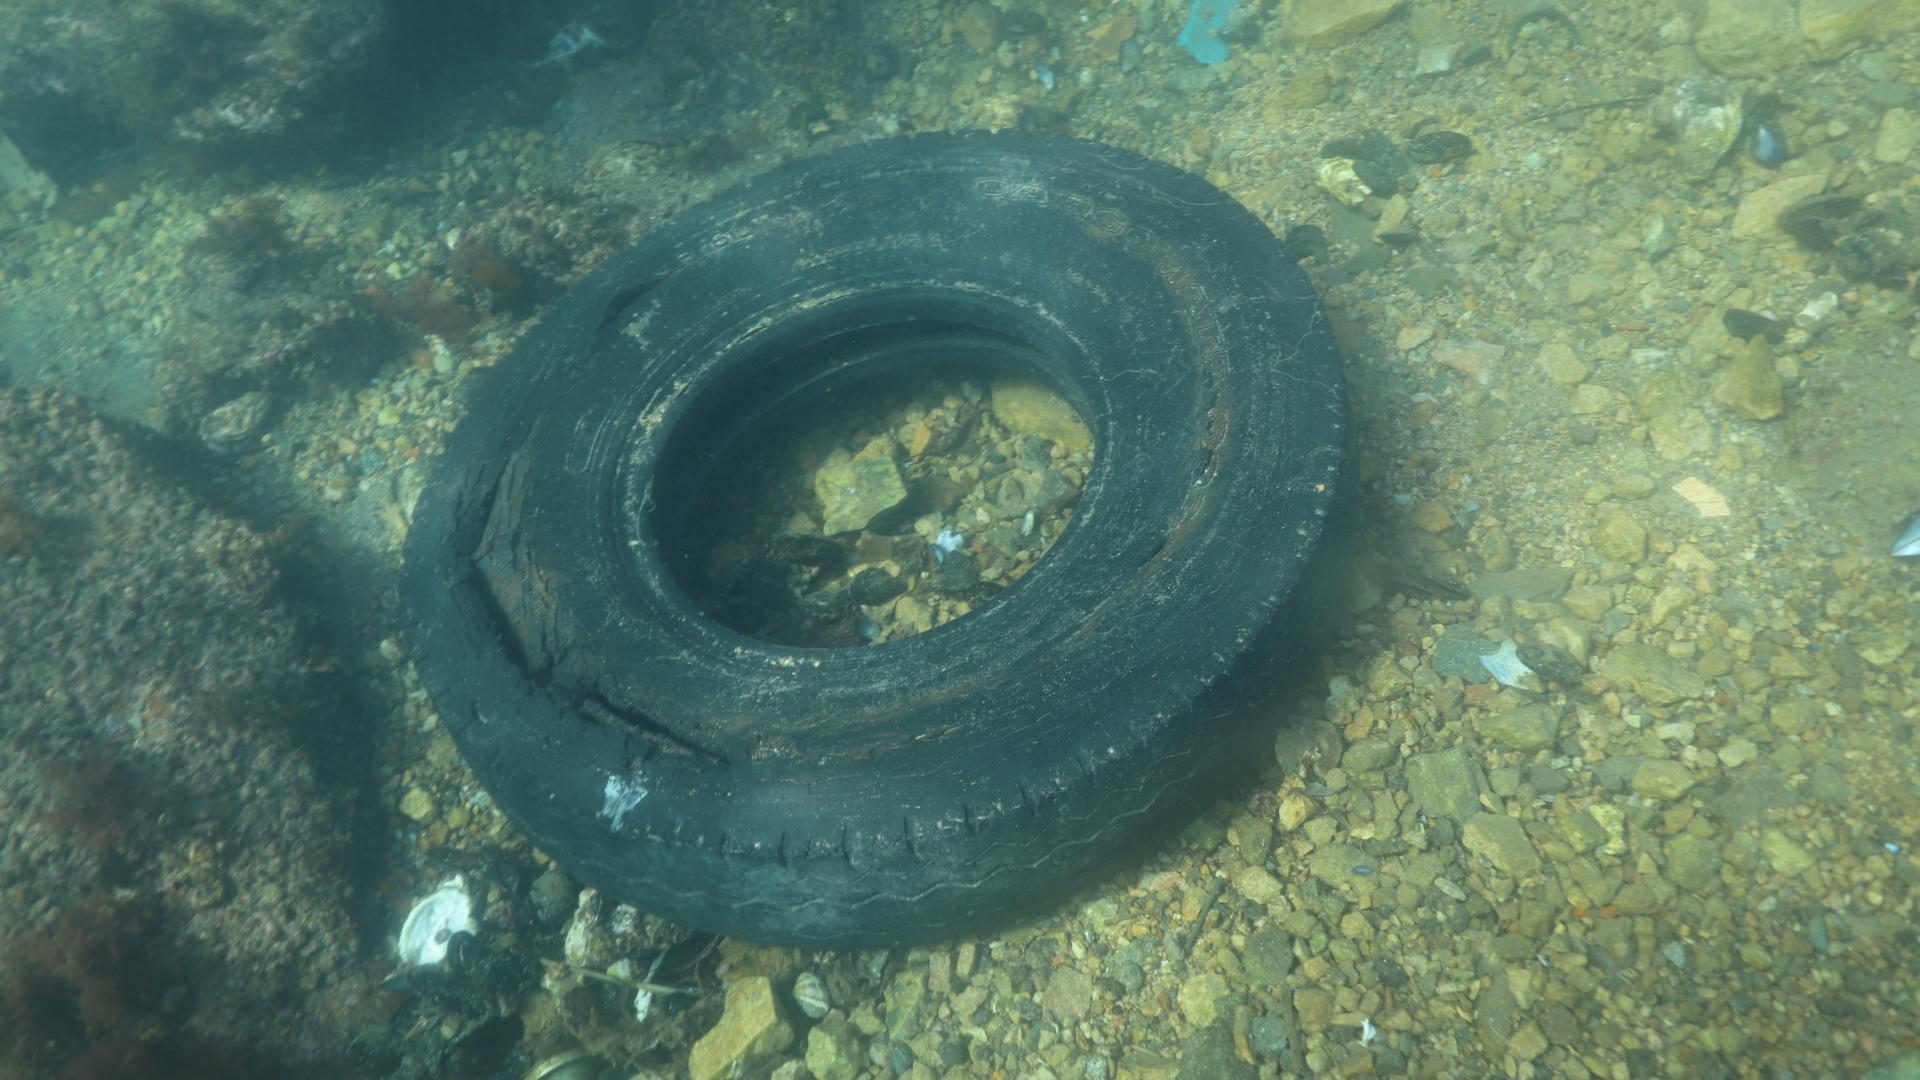tire: (394, 125, 1357, 951)
